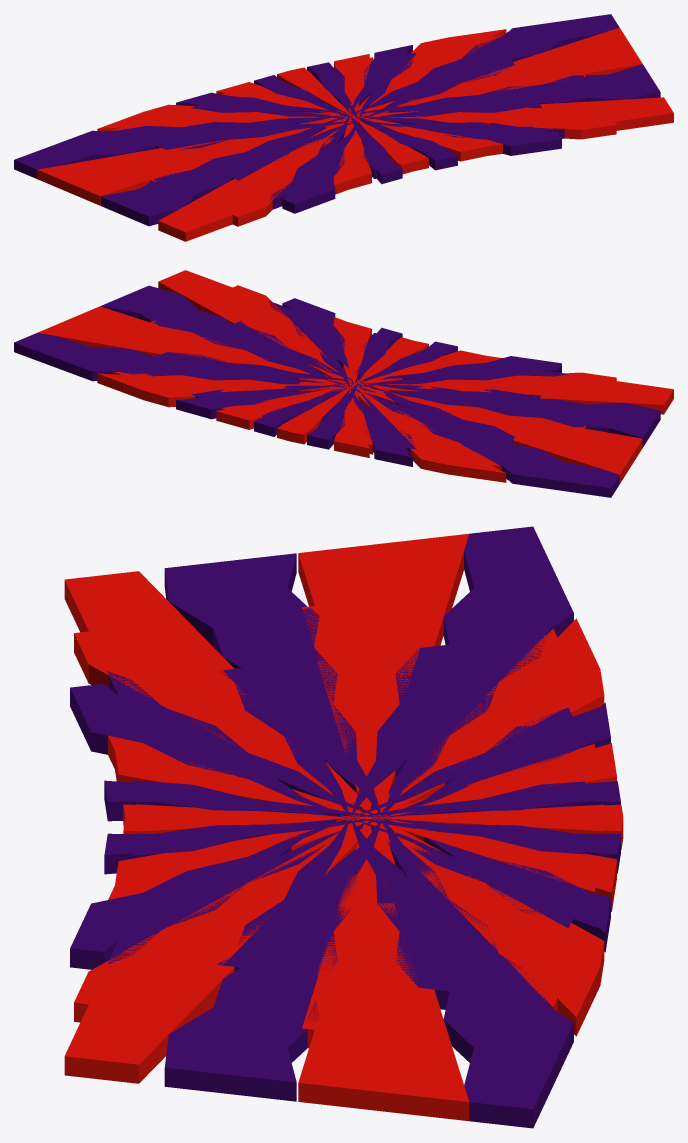
File: PreviewTileAttackModel.fbx
3 views of the same model, one above another, from view 1: azimuth 30°, elevation 25°; view 2: azimuth 150°, elevation 25°; view 3: azimuth 270°, elevation 25° (orthographic). The views are drawn at different scales.
Visible parts, largest first — view 1: EnemyAttackPreviewMiddle, CharacterAttackPreviewMiddle, EnemyAttackPreviewInner, CharacterAttackPreviewOuter, CharacterAttackPreviewInner, EnemyAttackPreviewOuter; view 2: EnemyAttackPreviewMiddle, CharacterAttackPreviewMiddle, CharacterAttackPreviewOuter, EnemyAttackPreviewInner, CharacterAttackPreviewInner, EnemyAttackPreviewOuter; view 3: EnemyAttackPreviewMiddle, EnemyAttackPreviewInner, CharacterAttackPreviewInner, CharacterAttackPreviewMiddle, CharacterAttackPreviewOuter, EnemyAttackPreviewOuter.
Part boxes in pixels (box(x1,y1,x2,y2)): EnemyAttackPreviewMiddle: box(67, 25, 597, 209); CharacterAttackPreviewMiddle: box(105, 36, 616, 226); EnemyAttackPreviewInner: box(132, 45, 561, 213); CharacterAttackPreviewOuter: box(37, 27, 673, 241); CharacterAttackPreviewInner: box(121, 38, 552, 195); EnemyAttackPreviewOuter: box(14, 14, 660, 226); EnemyAttackPreviewMiddle: box(67, 301, 597, 480); CharacterAttackPreviewMiddle: box(105, 285, 616, 470); CharacterAttackPreviewOuter: box(38, 270, 673, 483); EnemyAttackPreviewInner: box(132, 298, 561, 456); CharacterAttackPreviewInner: box(181, 307, 548, 462); EnemyAttackPreviewOuter: box(14, 285, 660, 497); EnemyAttackPreviewMiddle: box(107, 581, 616, 1054); EnemyAttackPreviewInner: box(70, 637, 588, 1009); CharacterAttackPreviewInner: box(108, 635, 605, 1000); CharacterAttackPreviewMiddle: box(74, 592, 604, 1048); CharacterAttackPreviewOuter: box(64, 533, 623, 1121); EnemyAttackPreviewOuter: box(132, 526, 620, 1128).
Size of the model in its own units: 564 by 8.64 by 228.
